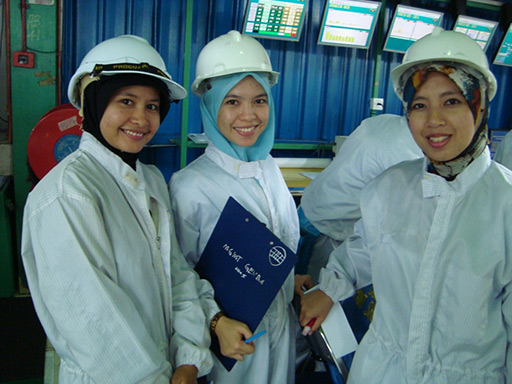Safety Helmet: (381, 15, 508, 185), (61, 22, 193, 185), (186, 20, 287, 176)
